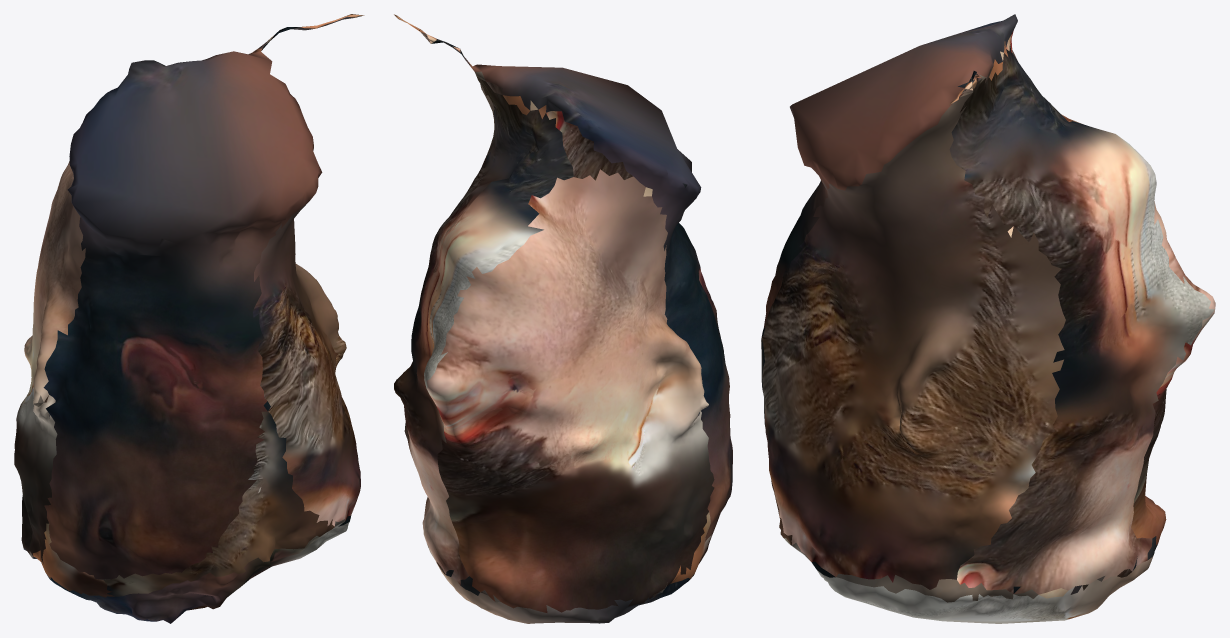
The model's file is Addid.obj.
The picture shows the model from 3 angles, left to right: view 1: azimuth 30°, elevation 25°; view 2: azimuth 150°, elevation 25°; view 3: azimuth 270°, elevation 25°; orthographic projection. The views are drawn at different scales.
Parts seen in each view (by area): view 1: mesh; view 2: mesh; view 3: mesh.
Boxes of the visible parts, x1,y1,x2,y2 form: mesh: (14, 14, 364, 623); mesh: (394, 14, 732, 623); mesh: (761, 14, 1215, 623).
Bounding box in the file's own units: 0.3483 × 0.5478 × 0.3709.
